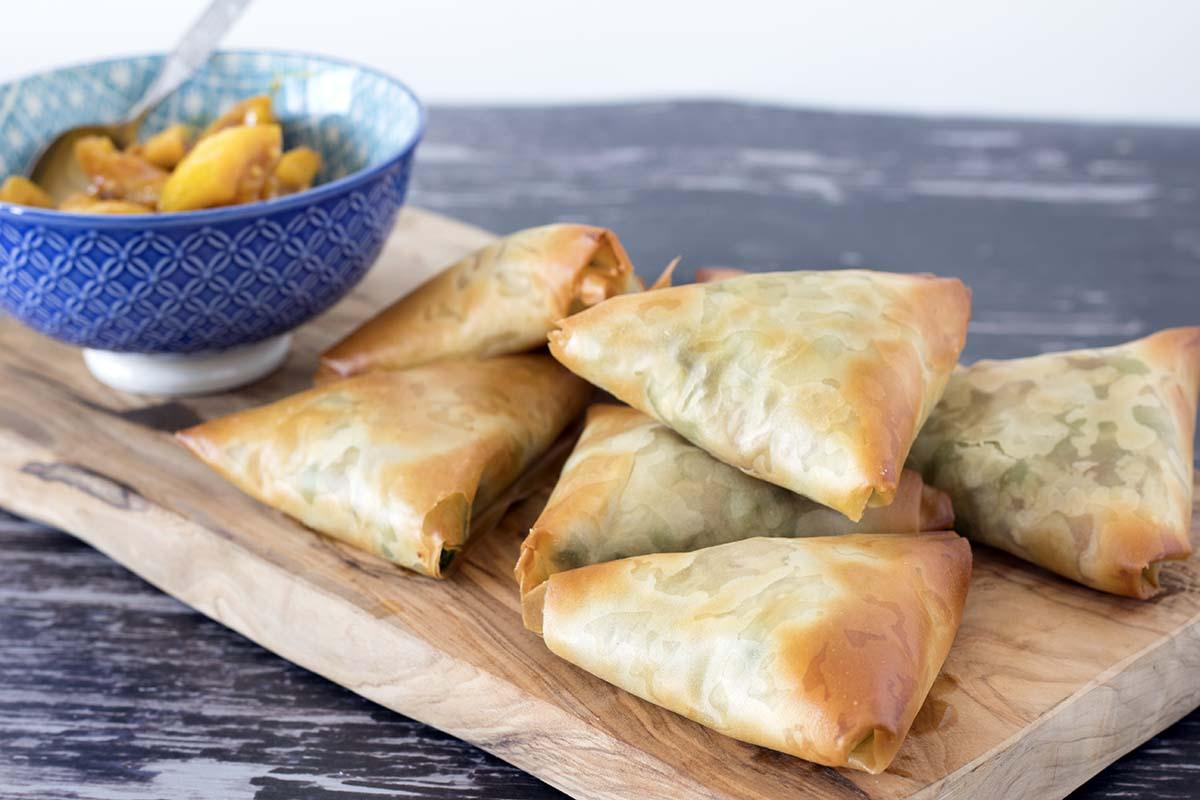samosa: (523, 532, 973, 773), (548, 270, 970, 520), (180, 354, 591, 575), (909, 329, 1200, 598), (319, 225, 640, 377), (1031, 427, 1041, 432), (1030, 450, 1034, 458)
